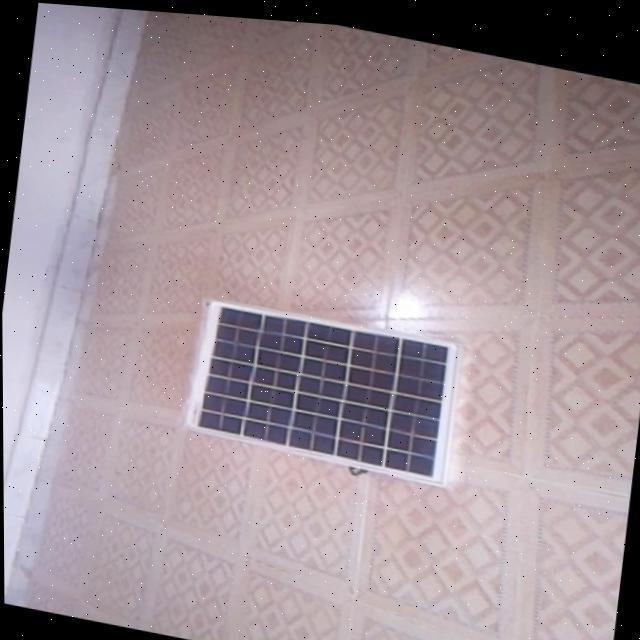Normal Solar Panel: (182, 291, 460, 481)
